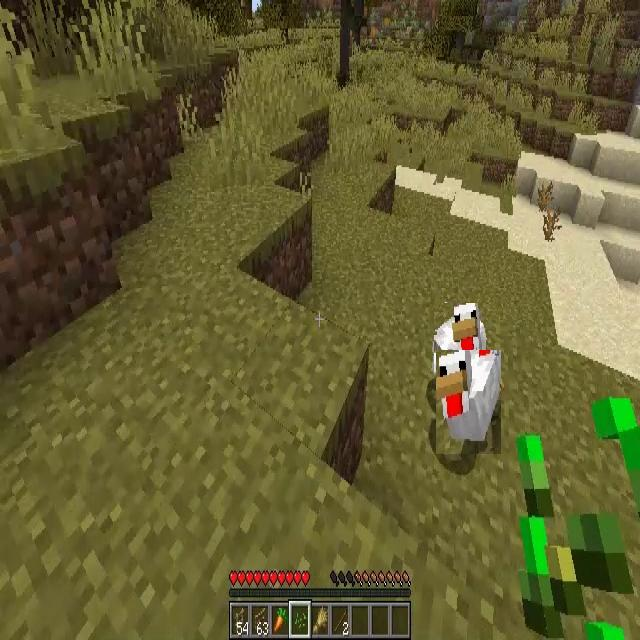duck: (436, 350, 501, 454), (434, 304, 486, 374)
